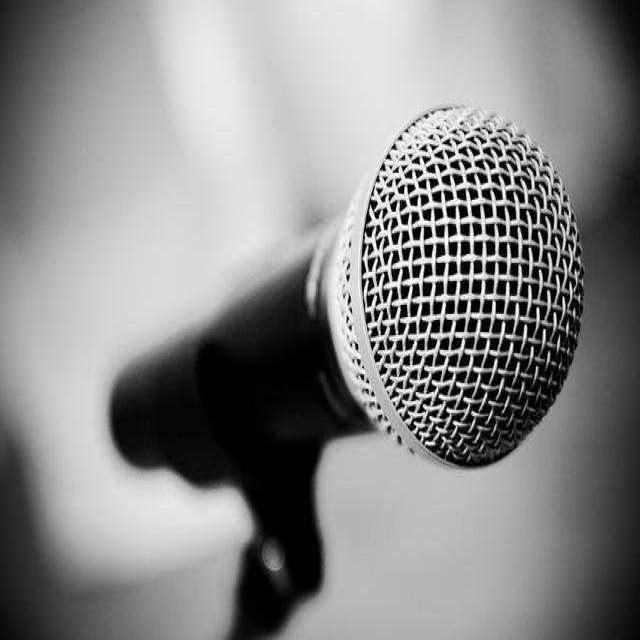microphone: (128, 99, 582, 500)
